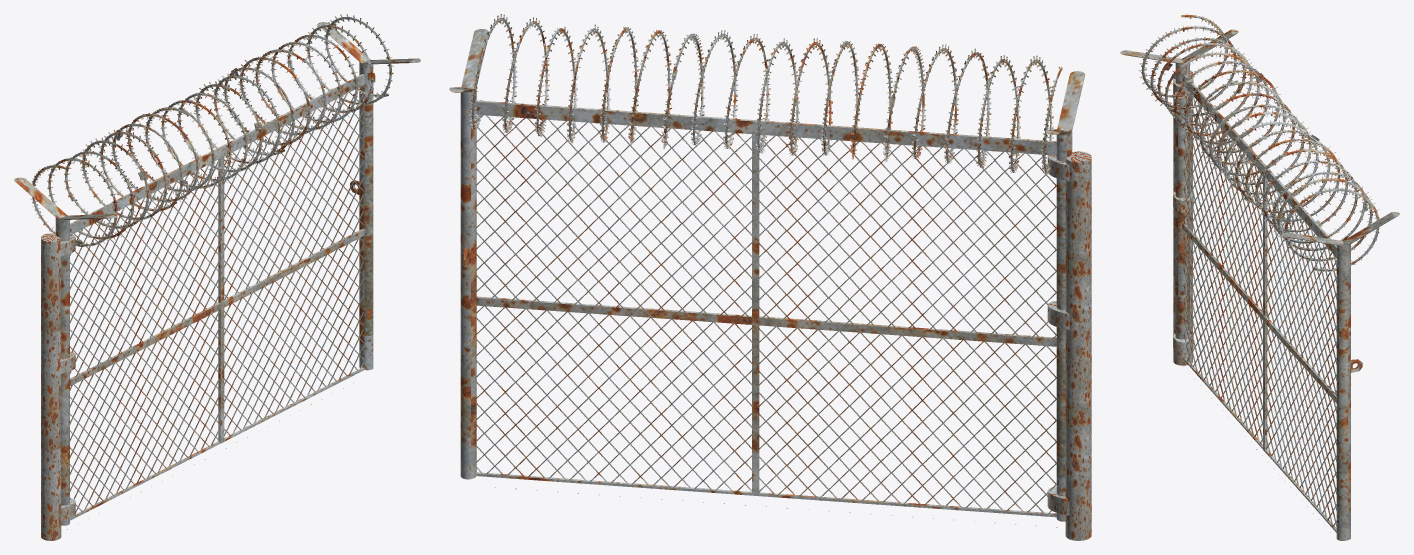
File: Boundry.obj
3 views of the same model, side by side, from view 1: azimuth 30°, elevation 25°; view 2: azimuth 150°, elevation 25°; view 3: azimuth 270°, elevation 25° (orthographic). The views are drawn at different scales.
Visible parts, largest first — view 1: military_fence_gate; view 2: military_fence_gate; view 3: military_fence_gate.
Boxes of the visible parts, bbox=[...] form: military_fence_gate: bbox=[14, 14, 420, 540]; military_fence_gate: bbox=[449, 14, 1091, 540]; military_fence_gate: bbox=[1120, 14, 1399, 540].
Size of the model in its own units: 1.48 by 1.21 by 0.8583.
Materials: 1 (1 with a texture image).
